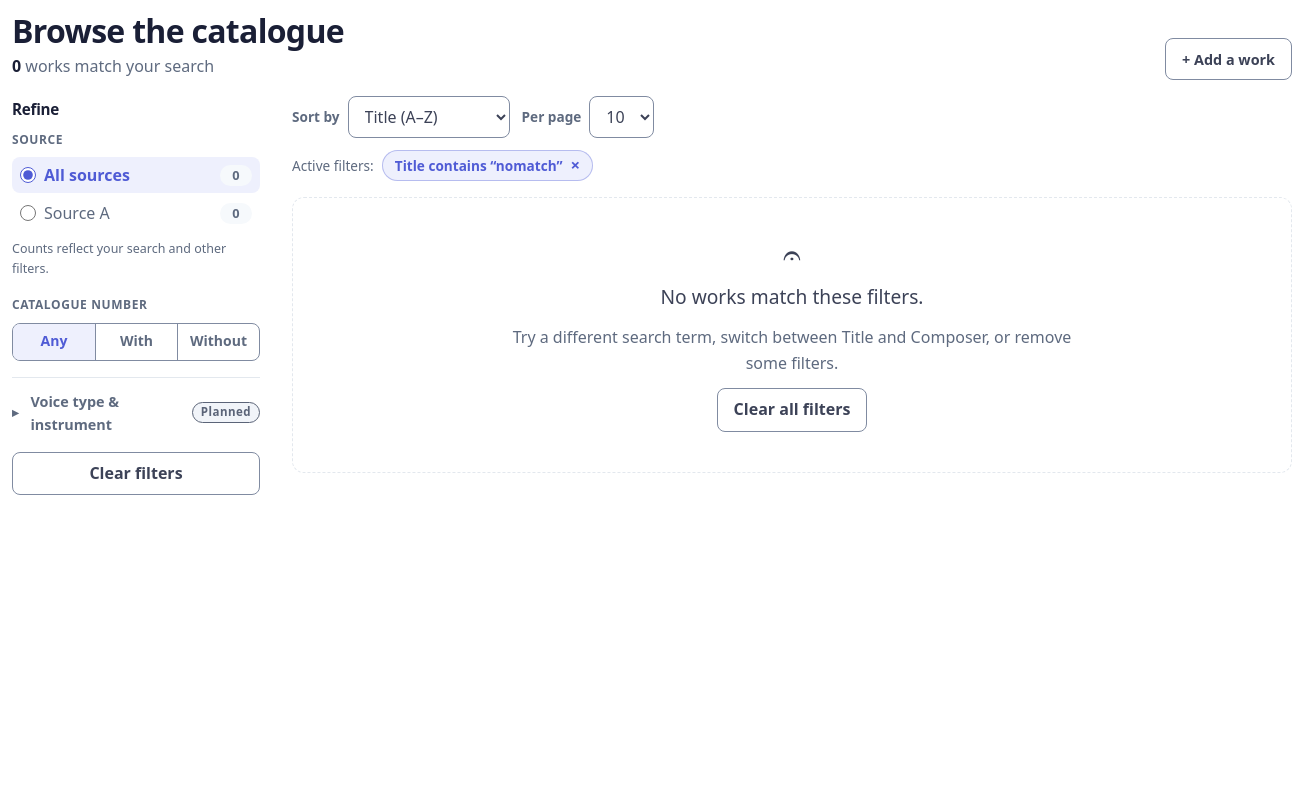
Test case: WorkCataloguePage › shows an empty state with a way to clear the filters
This screenshot has width=1292, height=808.
Expected: the text "No works match these filters." is shown, [660,282,924,313]
Step 1. Click the button "Clear all filters" → x=792, y=410, box [717,388,867,432]
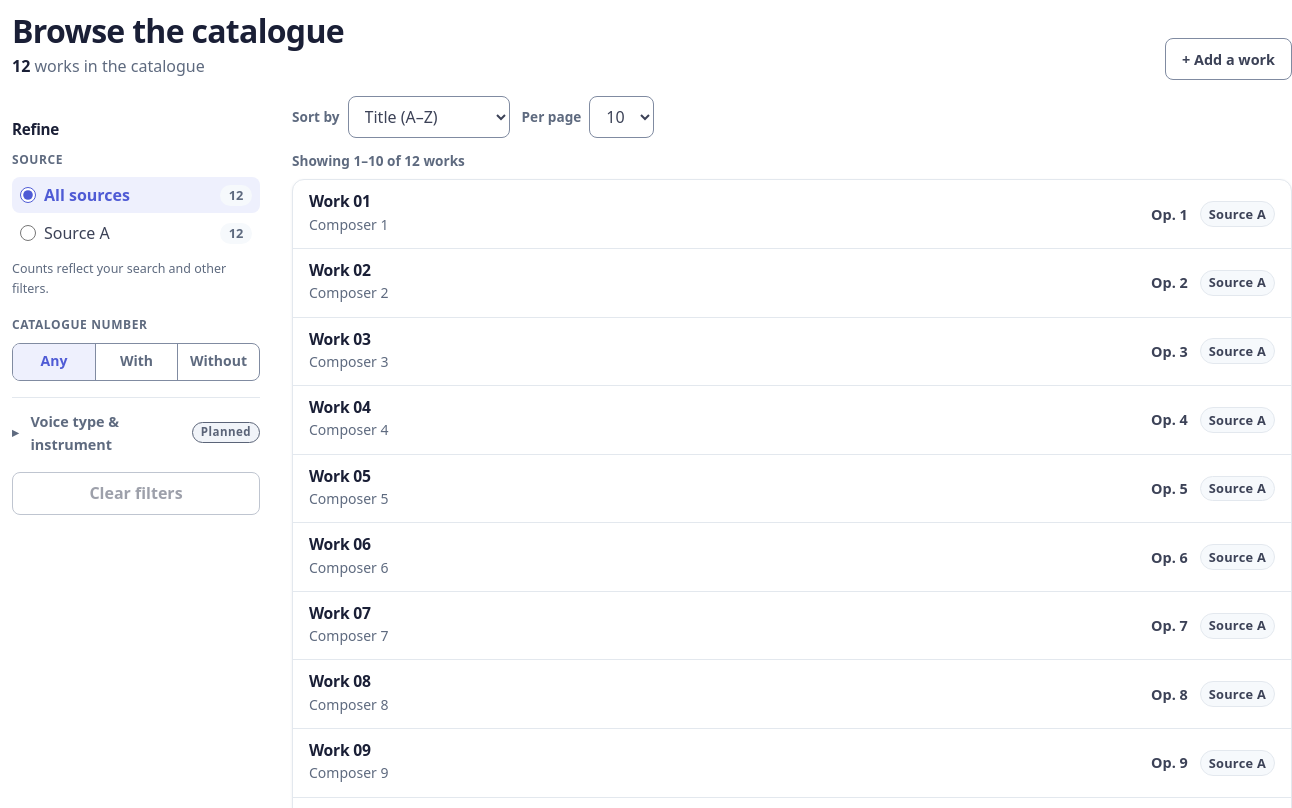
Expected: the text "Showing 1–10 of 12 works" is shown, [292,150,465,171]
